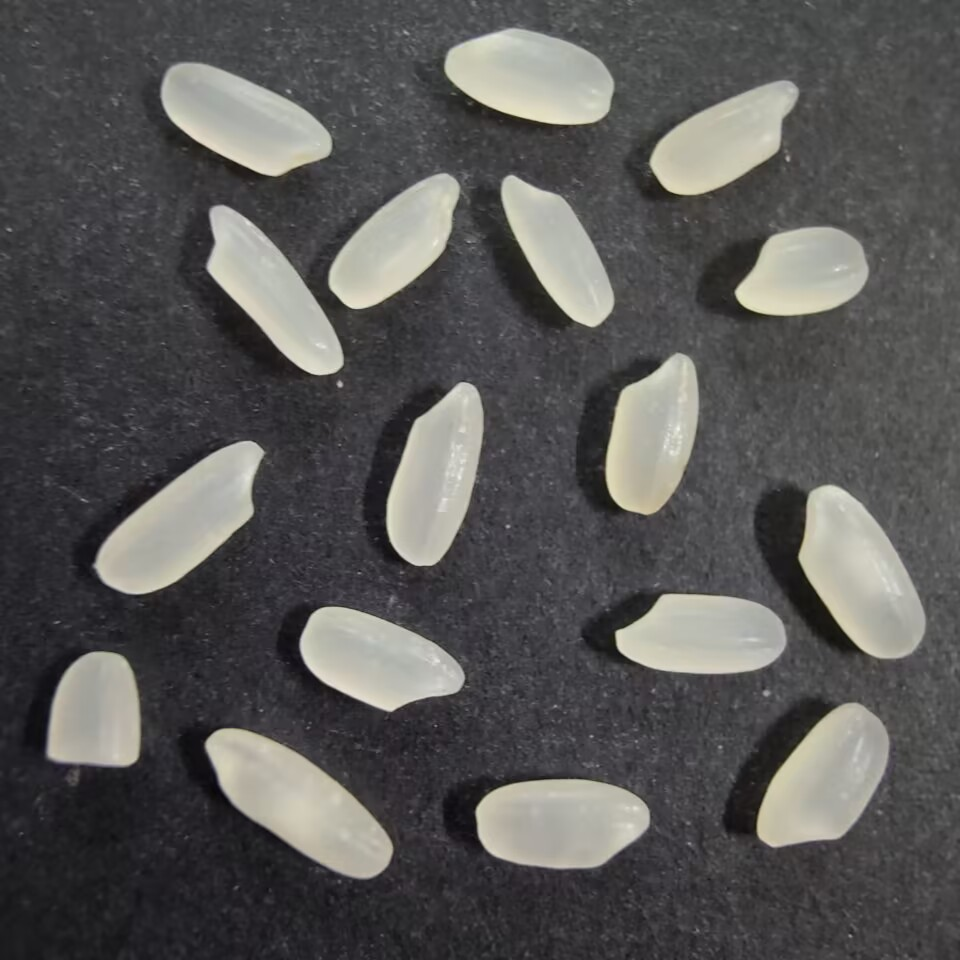broken: (45, 647, 142, 772)
rice: (202, 725, 396, 884), (91, 433, 267, 598), (203, 202, 343, 383), (797, 481, 932, 662), (158, 59, 340, 177), (380, 378, 488, 574), (754, 701, 892, 853), (325, 172, 461, 314), (441, 24, 623, 129), (296, 603, 468, 713), (495, 174, 615, 331), (647, 77, 804, 196), (472, 778, 654, 871), (601, 349, 701, 516), (612, 590, 790, 675), (731, 224, 869, 319)
